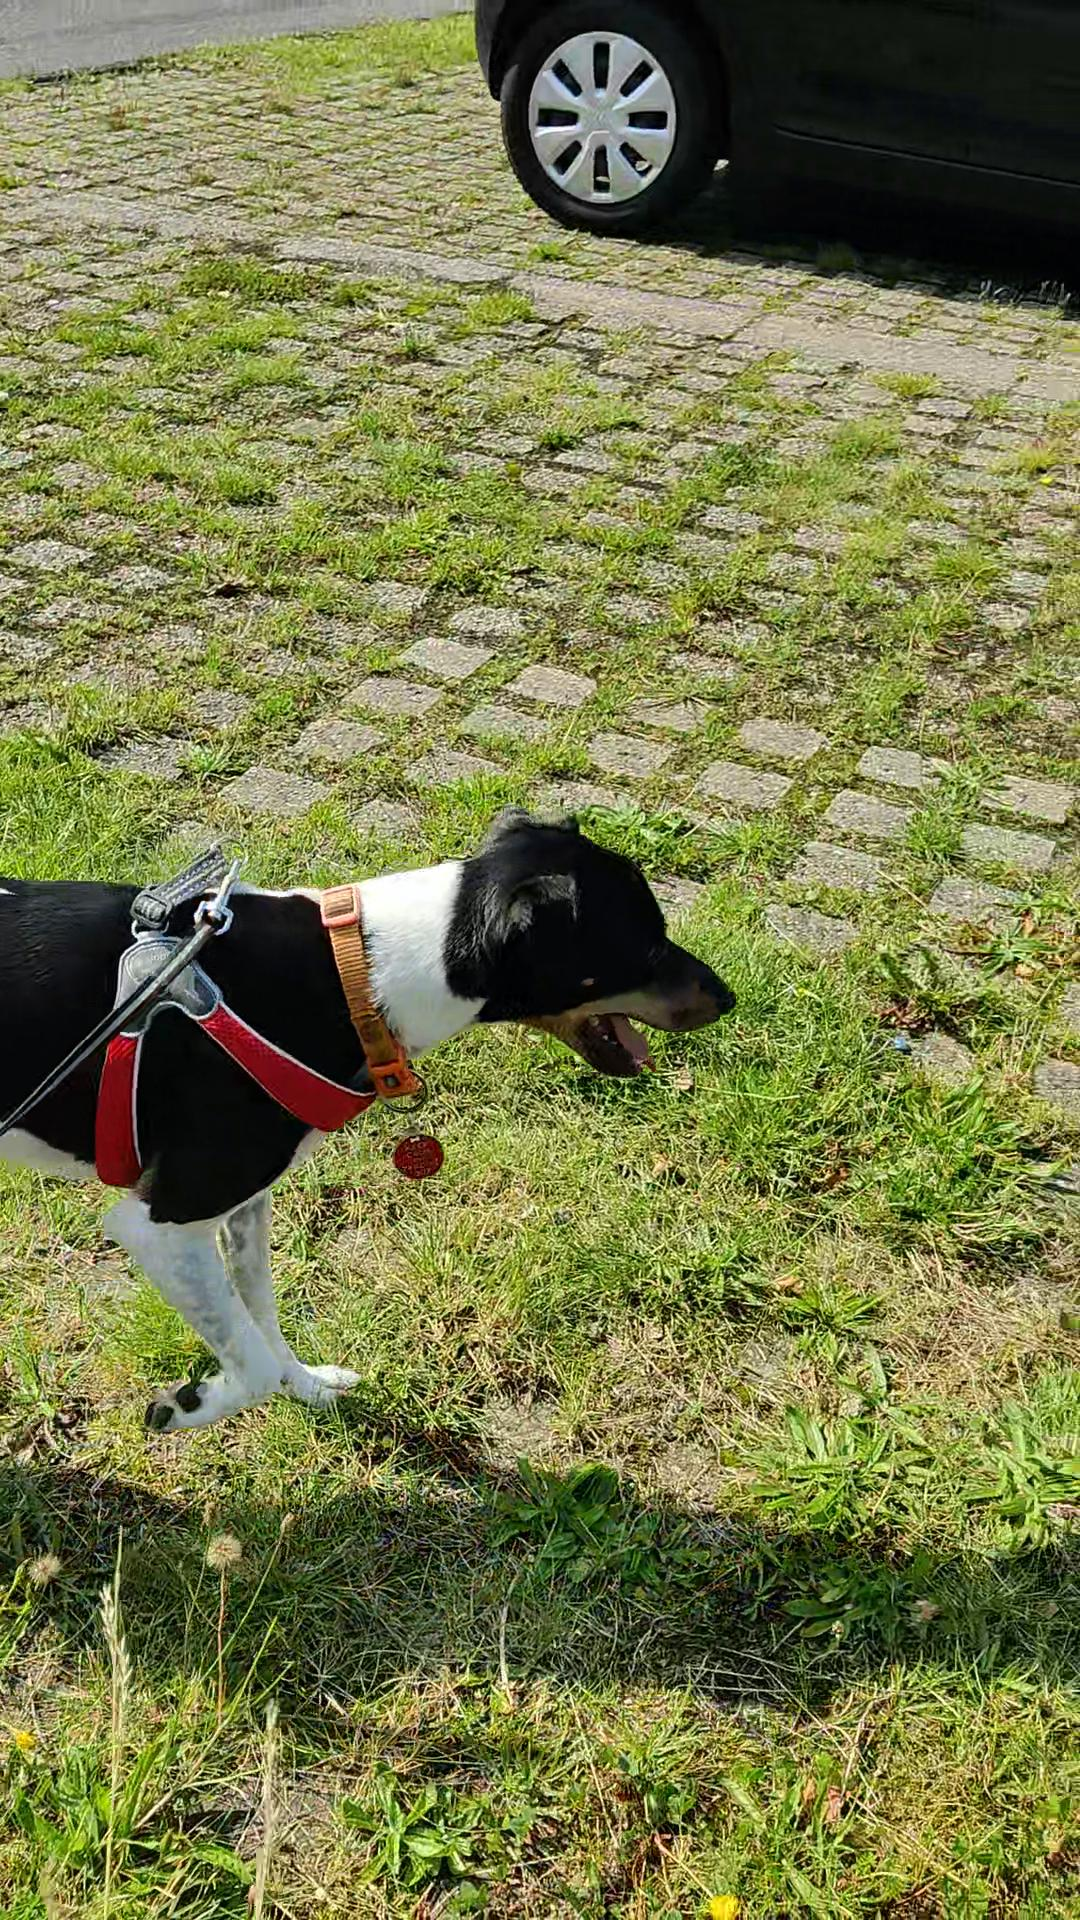Dog: (0, 804, 744, 1436)
